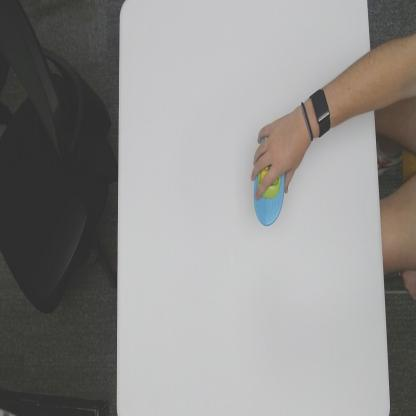Arm: (330, 55, 374, 124)
Boat: (252, 135, 287, 228)
Hand: (251, 109, 312, 199)
